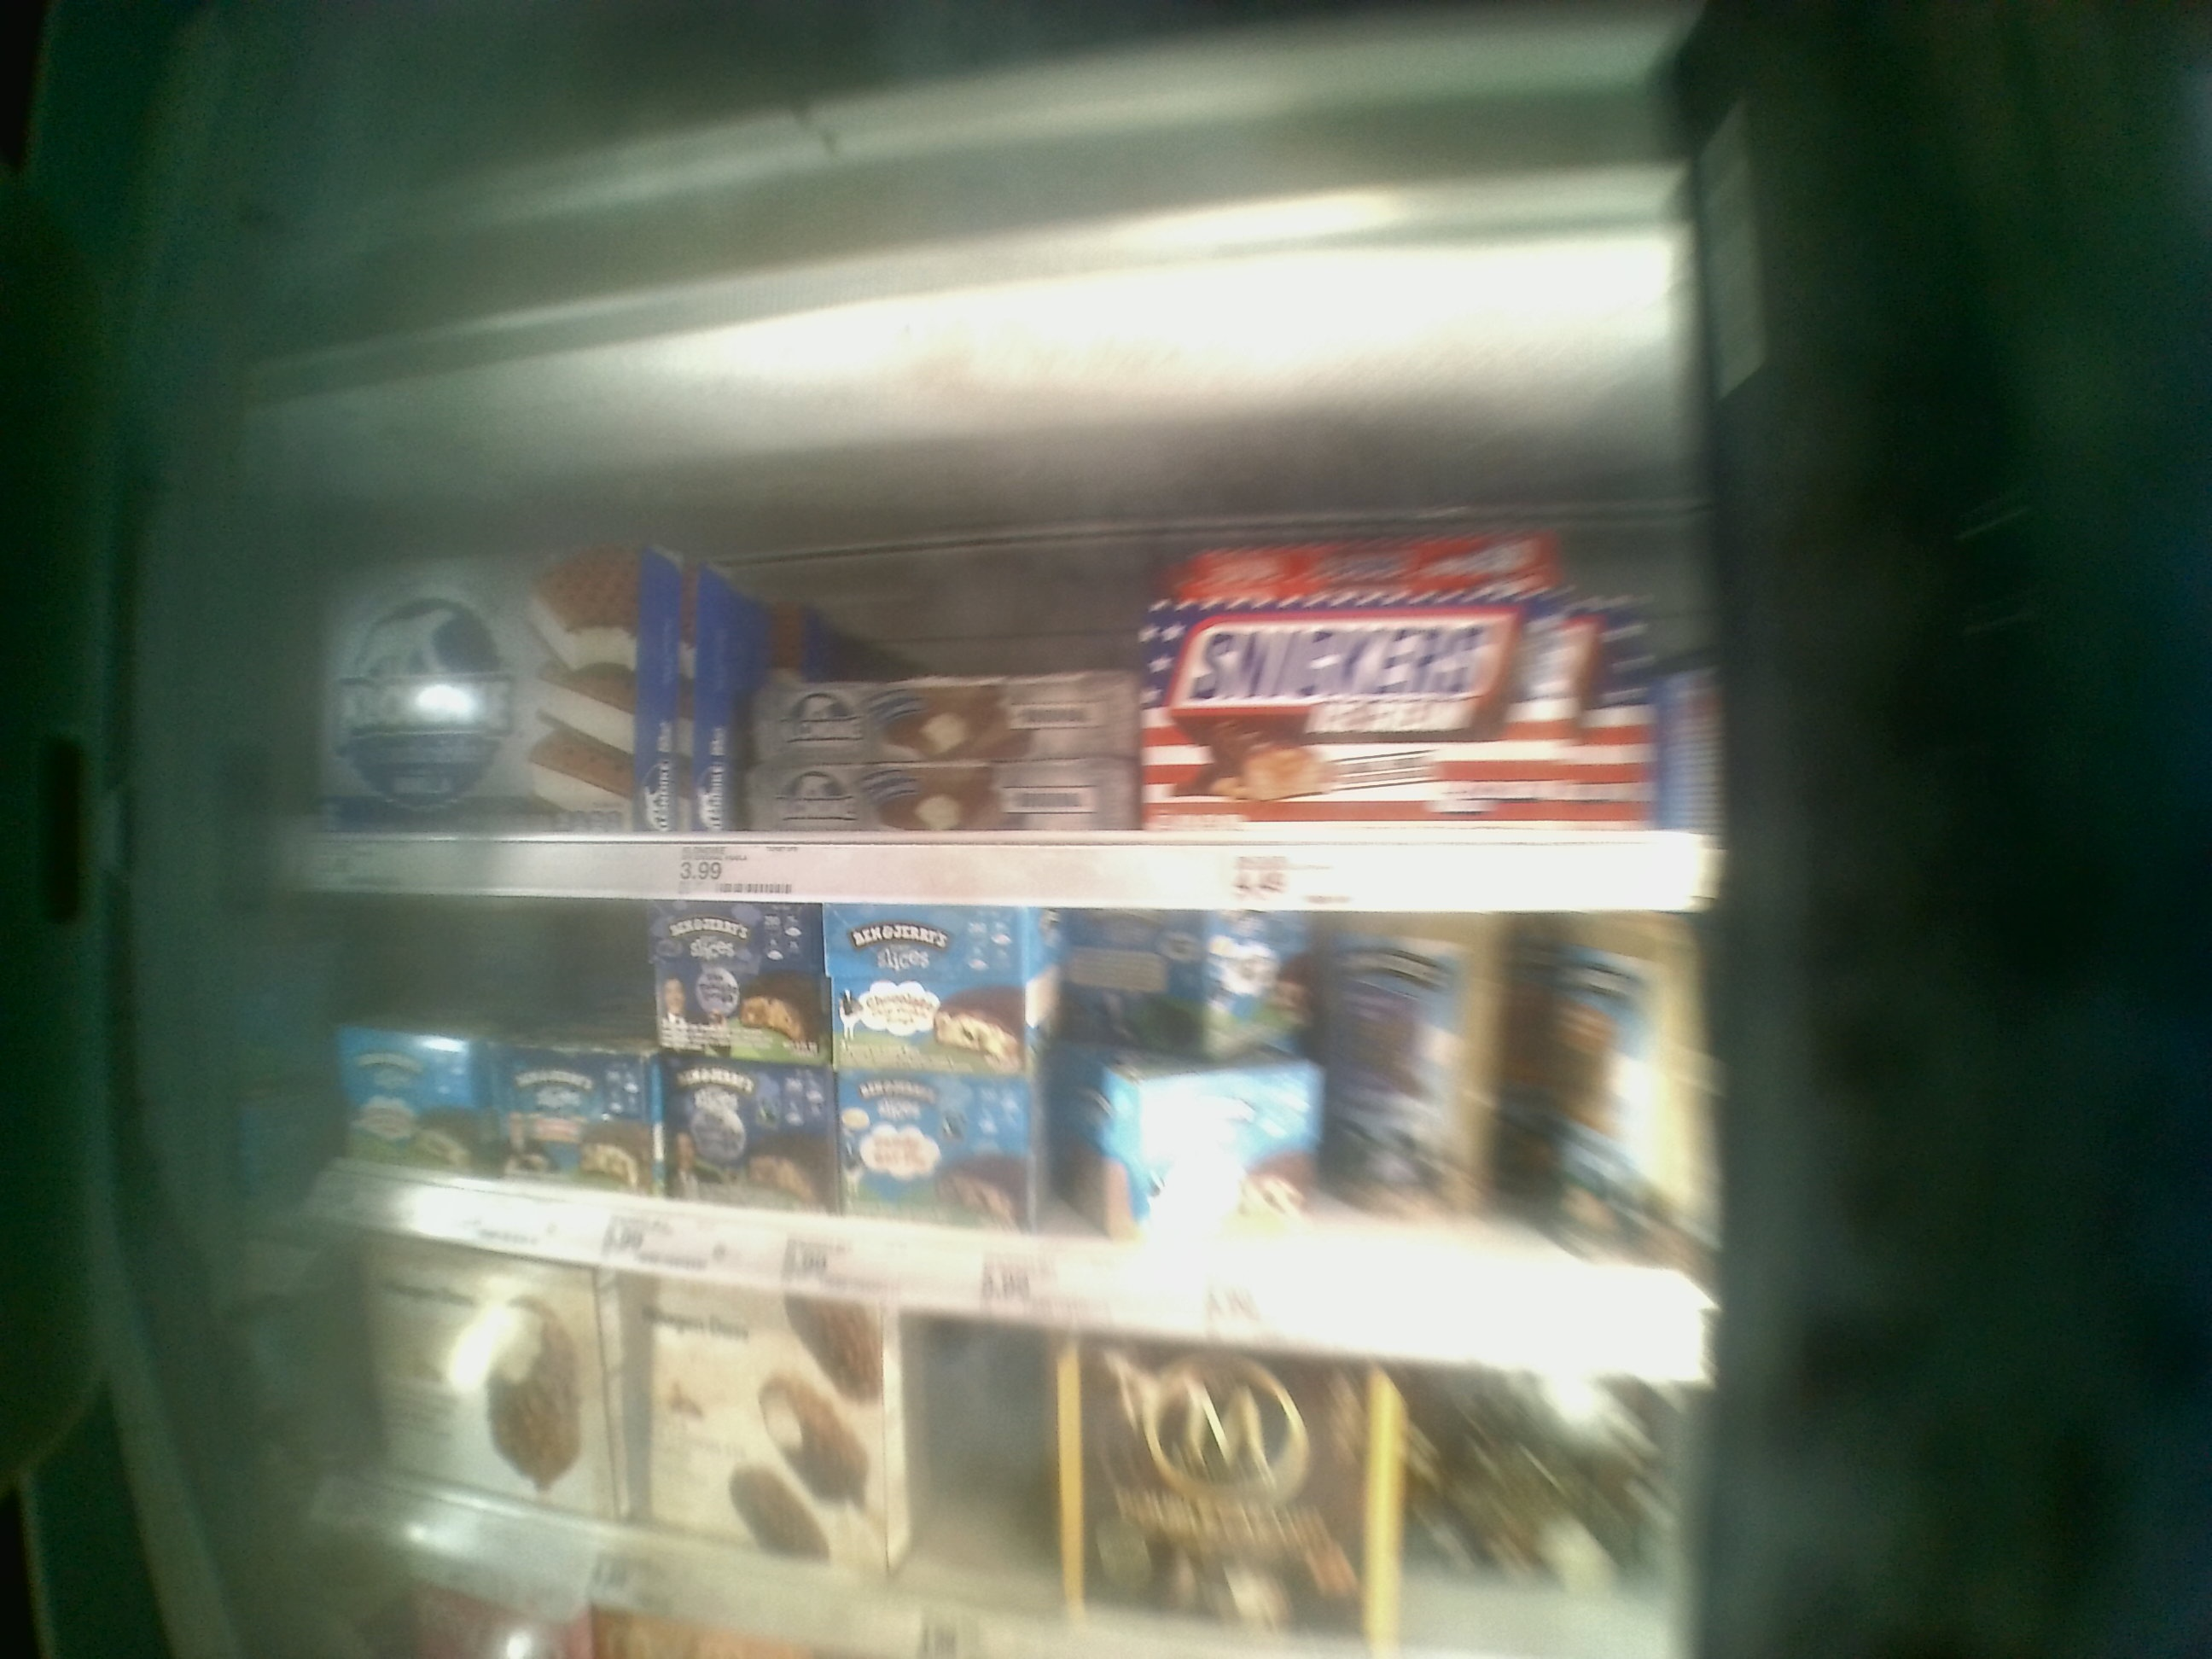shelf: (254, 422, 1714, 908)
